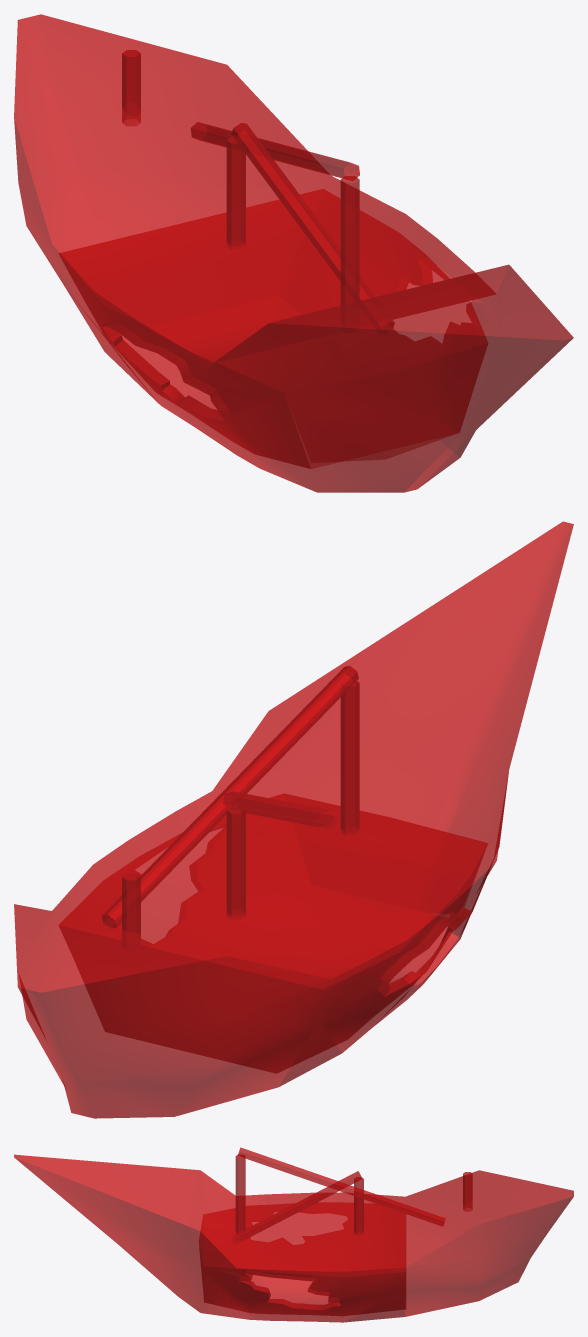
File: atari_OldShip.fbx
3 renders of one model, top to bottom at view 1: azimuth 30°, elevation 25°; view 2: azimuth 150°, elevation 25°; view 3: azimuth 270°, elevation 25°, orthographic. The views are drawn at different scales.
Visible parts, largest first — view 1: atari; view 2: atari; view 3: atari.
Part boxes in pixels (x1,y1,x2,y2): atari: (14, 14, 573, 492); atari: (14, 521, 573, 1118); atari: (14, 1147, 573, 1322).
Bounding box in the file's own units: 60.52 × 54.21 × 181.
